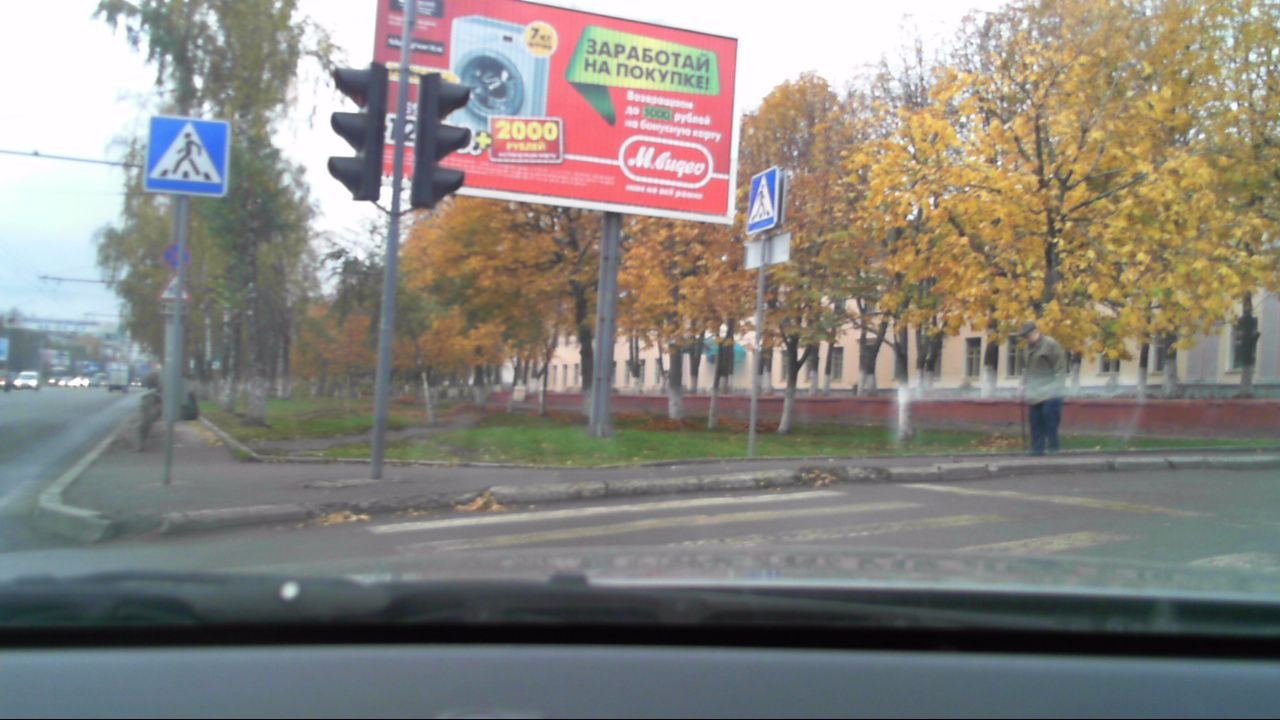No Parking: (161, 241, 189, 270)
